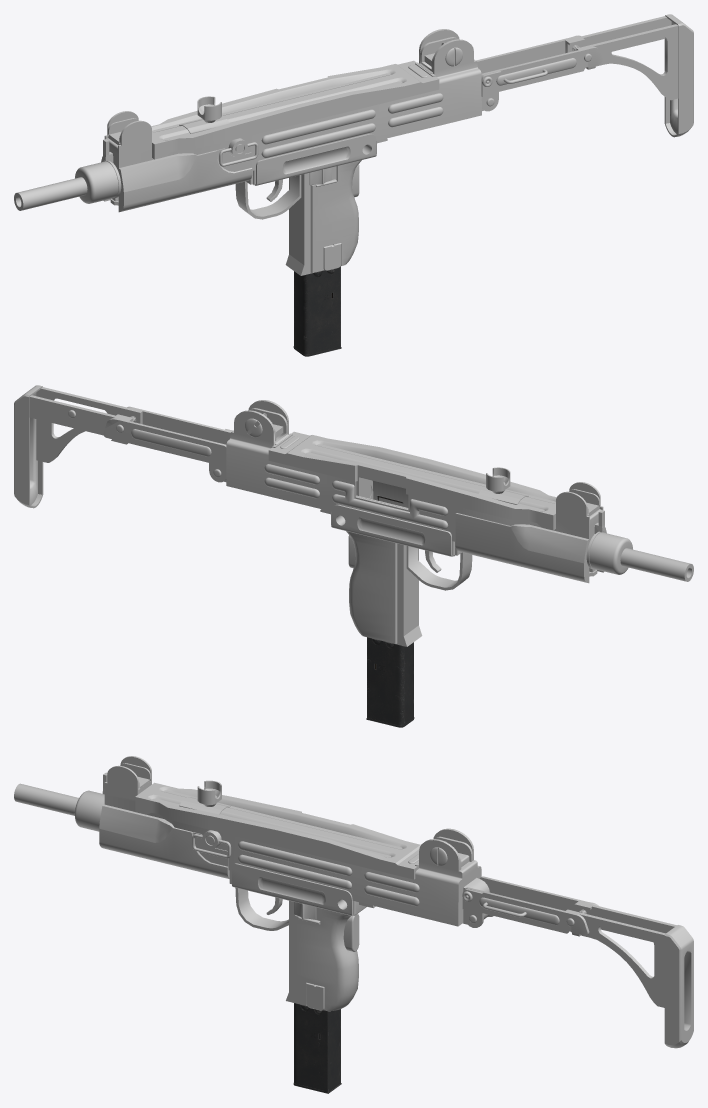
File: uzi.obj
3 renders of one model, top to bottom at view 1: azimuth 30°, elevation 25°; view 2: azimuth 150°, elevation 25°; view 3: azimuth 330°, elevation 25°, orthographic.
Parts seen in each view (by area): view 1: UZI_UZI.002, UZI.001; view 2: UZI_UZI.002, UZI.001; view 3: UZI_UZI.002, UZI.001.
Part boxes in pixels (bbox=[...]): UZI_UZI.002: bbox=[14, 14, 693, 275]; UZI.001: bbox=[293, 266, 341, 356]; UZI_UZI.002: bbox=[14, 385, 693, 646]; UZI.001: bbox=[366, 495, 414, 727]; UZI_UZI.002: bbox=[14, 756, 693, 1048]; UZI.001: bbox=[293, 1003, 341, 1093].
Size of the model in its own units: 0.6358 by 0.2553 by 0.0466.
